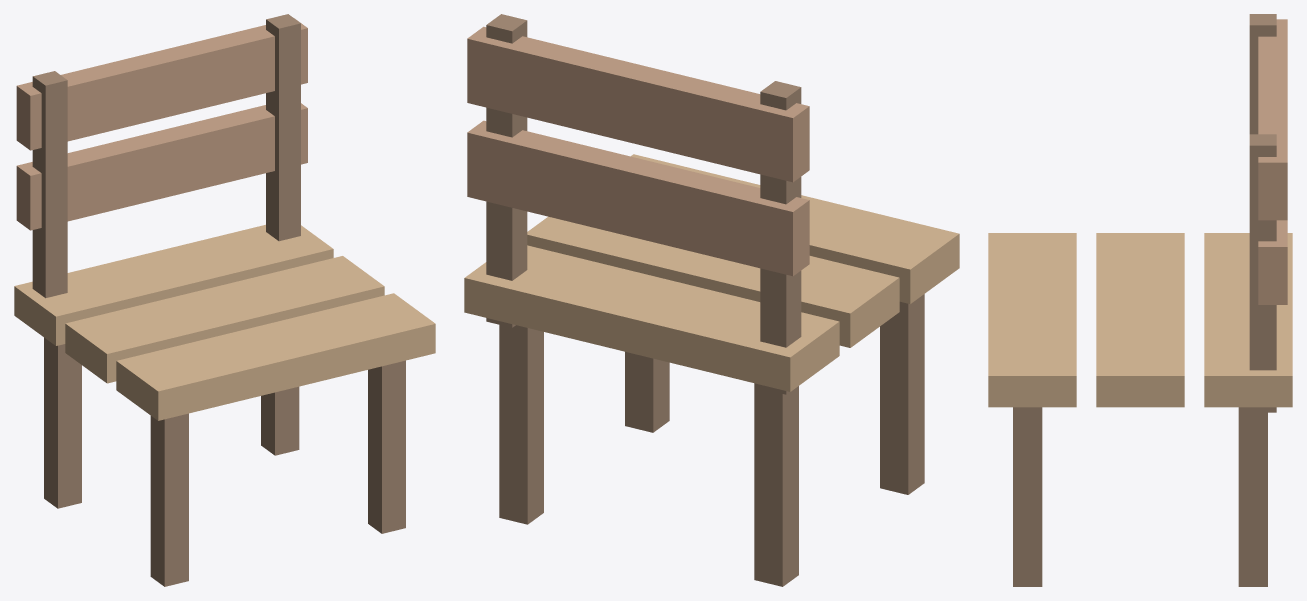
Rendered from garden_seat.fbx.
The picture shows the model from 3 angles, left to right: view 1: azimuth 30°, elevation 25°; view 2: azimuth 150°, elevation 25°; view 3: azimuth 270°, elevation 25°; orthographic projection. The views are drawn at different scales.
Parts seen in each view (by area): view 1: garden_seat_geometry; view 2: garden_seat_geometry; view 3: garden_seat_geometry.
Boxes of the visible parts, left/top/right/bottom form: garden_seat_geometry: left=14, top=14, right=435, bottom=586; garden_seat_geometry: left=464, top=14, right=959, bottom=586; garden_seat_geometry: left=988, top=14, right=1292, bottom=586.
Size of the model in its own units: 0.69 by 1 by 0.62.
